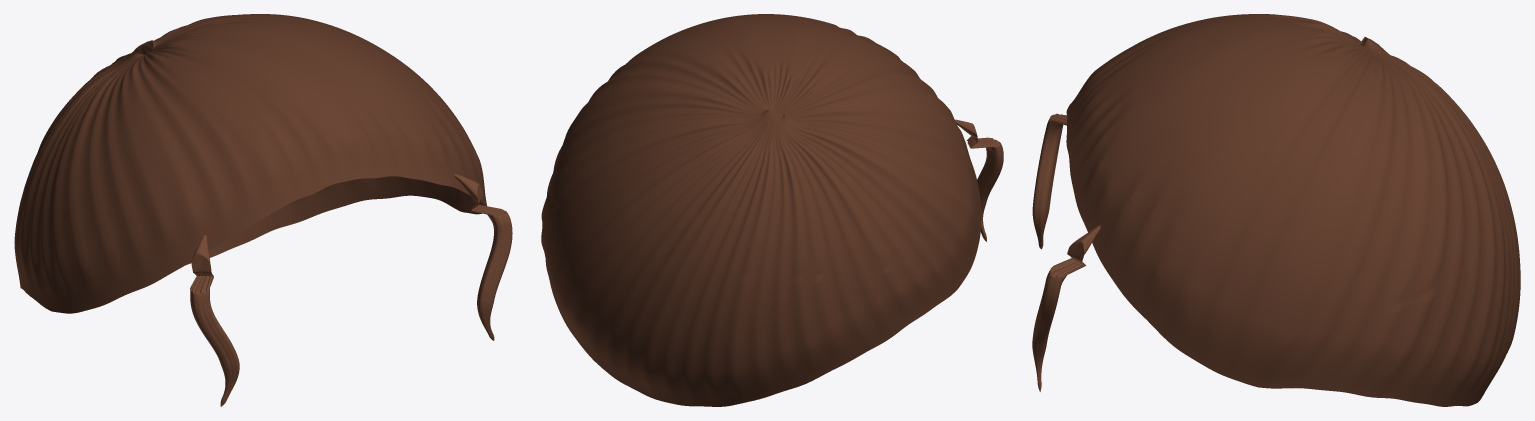
File: ponytail-beanie-fringe-default.glb
3 views of the same model, side by side, from view 1: azimuth 30°, elevation 25°; view 2: azimuth 150°, elevation 25°; view 3: azimuth 270°, elevation 25° (orthographic). The views are drawn at different scales.
Visible parts, largest first — view 1: 226 hair / Hair / crisp pulled roots220.002, 226 hair / Hair / sculpted front locks222.002; view 2: 226 hair / Hair / crisp pulled roots220.002, 226 hair / Hair / sculpted front locks222.002; view 3: 226 hair / Hair / crisp pulled roots220.002, 226 hair / Hair / sculpted front locks222.002.
Part boxes in pixels (x1,y1,x2,y2): 226 hair / Hair / crisp pulled roots220.002: (14,14,486,313); 226 hair / Hair / sculpted front locks222.002: (190,173,512,406); 226 hair / Hair / crisp pulled roots220.002: (541,14,981,406); 226 hair / Hair / sculpted front locks222.002: (954,119,1003,241); 226 hair / Hair / crisp pulled roots220.002: (1066,14,1520,406); 226 hair / Hair / sculpted front locks222.002: (1032,113,1100,391).
Size of the model in its own units: 0.7726 by 0.5697 by 0.7364.
